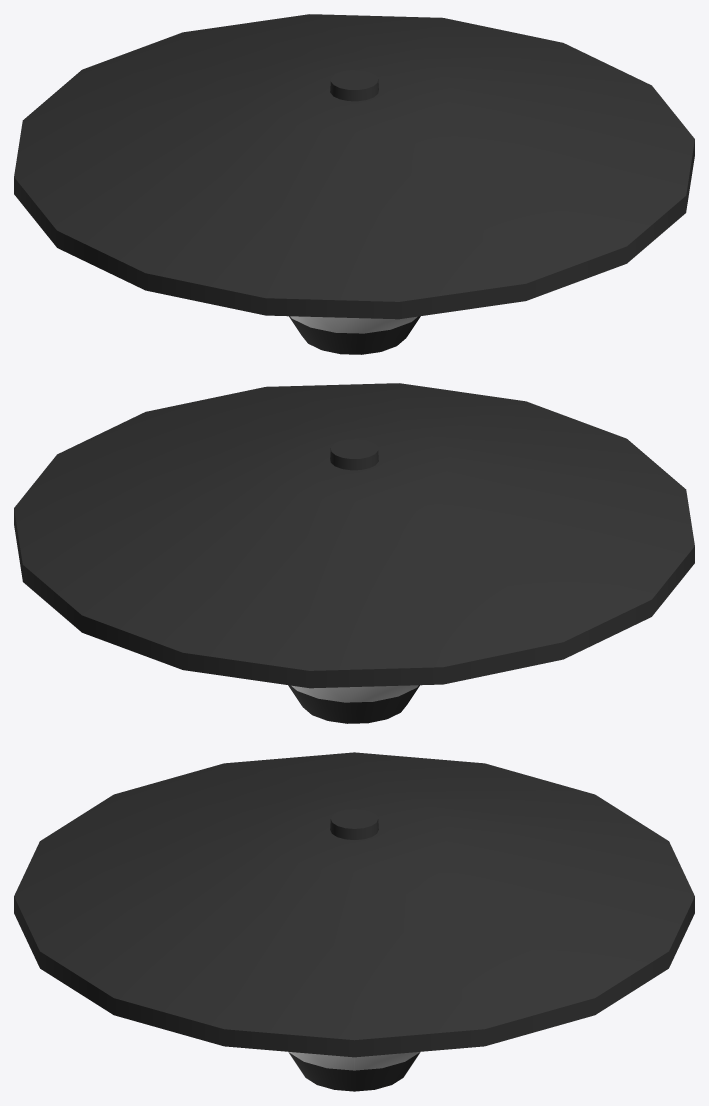
The picture shows the model from 3 angles, top to bottom: view 1: azimuth 30°, elevation 25°; view 2: azimuth 150°, elevation 25°; view 3: azimuth 270°, elevation 25°; orthographic projection.
Visible parts, largest first — view 1: Indal 2020, Indal 2020 Glas; view 2: Indal 2020, Indal 2020 Glas; view 3: Indal 2020, Indal 2020 Glas.
Part boxes in pixels (x1=…): Indal 2020: x1=14, y1=14, x2=694, y2=354; Indal 2020 Glas: x1=290, y1=316, x2=417, y2=333; Indal 2020: x1=14, y1=383, x2=694, y2=723; Indal 2020 Glas: x1=291, y1=685, x2=418, y2=702; Indal 2020: x1=14, y1=752, x2=694, y2=1091; Indal 2020 Glas: x1=289, y1=1052, x2=419, y2=1070.
Size of the model in its own units: 0.8388 by 0.34 by 0.8388.
Materials: 3 (2 with a texture image).
